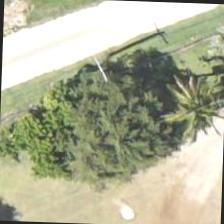Kelapa_Sawit: (145, 56, 223, 151)
